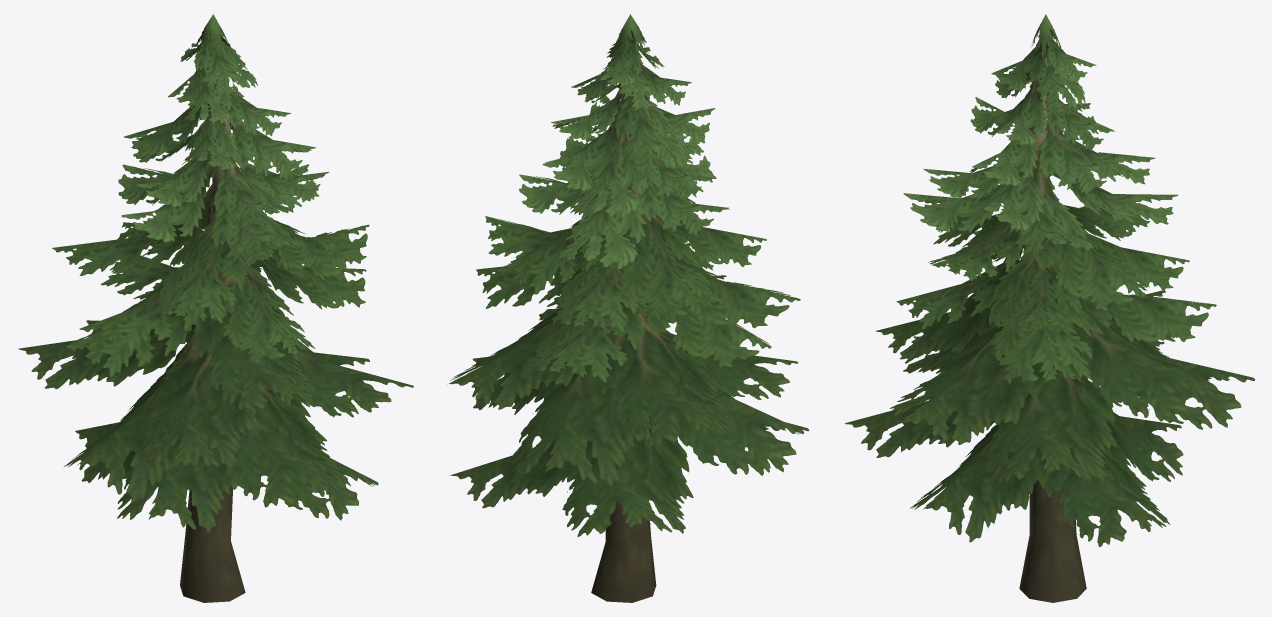
File: Pine_tree.fbx
3 renders of one model, left to right at view 1: azimuth 30°, elevation 25°; view 2: azimuth 150°, elevation 25°; view 3: azimuth 270°, elevation 25°, orthographic.
Visible parts, largest first — view 1: Pine_tree; view 2: Pine_tree; view 3: Pine_tree.
Part boxes in pixels (x1,y1,x2,y2): Pine_tree: (18,14,413,602); Pine_tree: (447,14,809,602); Pine_tree: (845,14,1254,602).
Bounding box in the file's own units: 156 × 272 × 180.
1 material, 1 textured.
